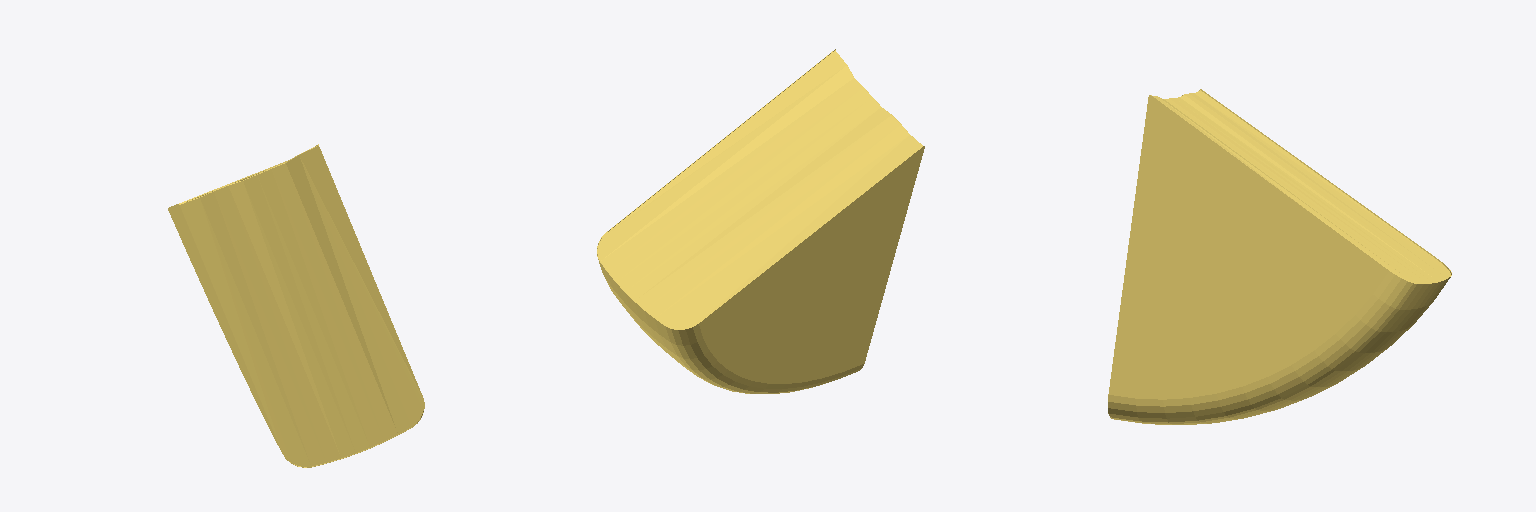
File: cheese-1.obj
3 renders of one model, left to right at view 1: azimuth 30°, elevation 25°; view 2: azimuth 150°, elevation 25°; view 3: azimuth 270°, elevation 25°, orthographic.
Visible parts, largest first — view 1: ChamferCyl01.001; view 2: ChamferCyl01.001; view 3: ChamferCyl01.001.
Boxes of the visible parts, <box> form: ChamferCyl01.001: <box>168,144,424,467</box>; ChamferCyl01.001: <box>597,49,924,393</box>; ChamferCyl01.001: <box>1108,89,1451,424</box>.
Size of the model in its own units: 2.01 by 2.62 by 2.56.